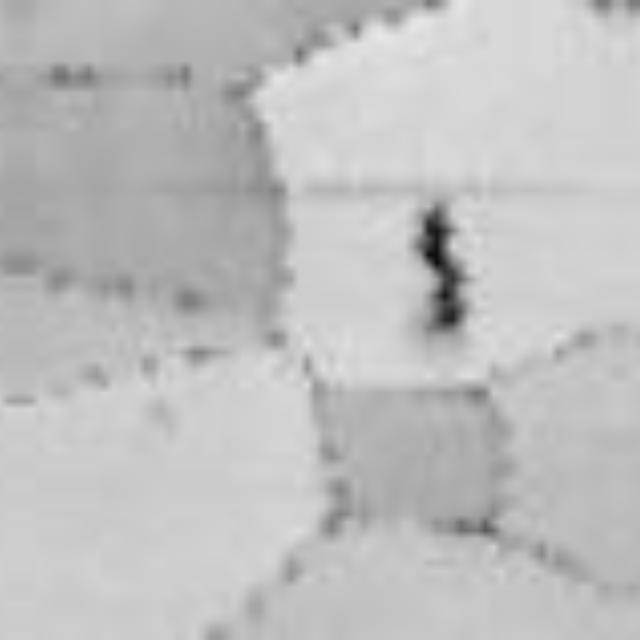good_void: (406, 191, 487, 344)
